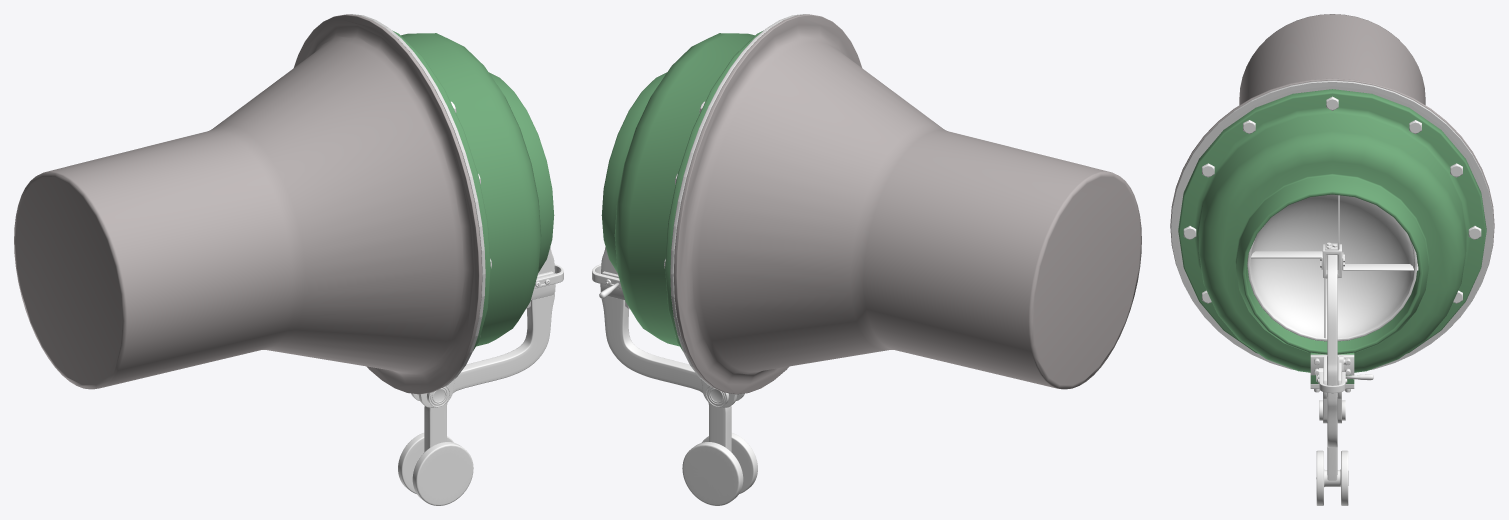
File: 超气排风.glb
3 renders of one model, left to right at view 1: azimuth 30°, elevation 25°; view 2: azimuth 150°, elevation 25°; view 3: azimuth 270°, elevation 25°, orthographic. The views are drawn at different scales.
Parts seen in each view (by area): view 1: 39超气排风, 圆环.268, 平面.140, 圆环.271; view 2: 39超气排风, 圆环.268, 平面.140, 圆环.271; view 3: 圆环.268, 球体.023, 39超气排风, 圆环.271, 平面.140, 立方体.504, Bolt 3.538, 立方体.505, 立方体.508.
Boxes of the visible parts, <box> form: 39超气排风: <box>14,14,482,394</box>; 圆环.268: <box>392,30,554,350</box>; 平面.140: <box>398,247,555,505</box>; 圆环.271: <box>350,14,485,389</box>; 39超气排风: <box>673,14,1141,394</box>; 圆环.268: <box>601,30,763,350</box>; 平面.140: <box>600,247,757,505</box>; 圆环.271: <box>670,14,805,389</box>; 圆环.268: <box>1178,89,1486,383</box>; 球体.023: <box>1247,194,1417,341</box>; 39超气排风: <box>1170,14,1494,263</box>; 圆环.271: <box>1171,80,1493,372</box>; 平面.140: <box>1316,255,1348,505</box>; 立方体.504: <box>1251,195,1418,341</box>; Bolt 3.538: <box>1183,96,1481,303</box>; 立方体.505: <box>1310,354,1354,398</box>; 立方体.508: <box>1310,384,1354,423</box>.
Bounding box in the file's own units: 0.5578 × 0.5231 × 0.3813.
